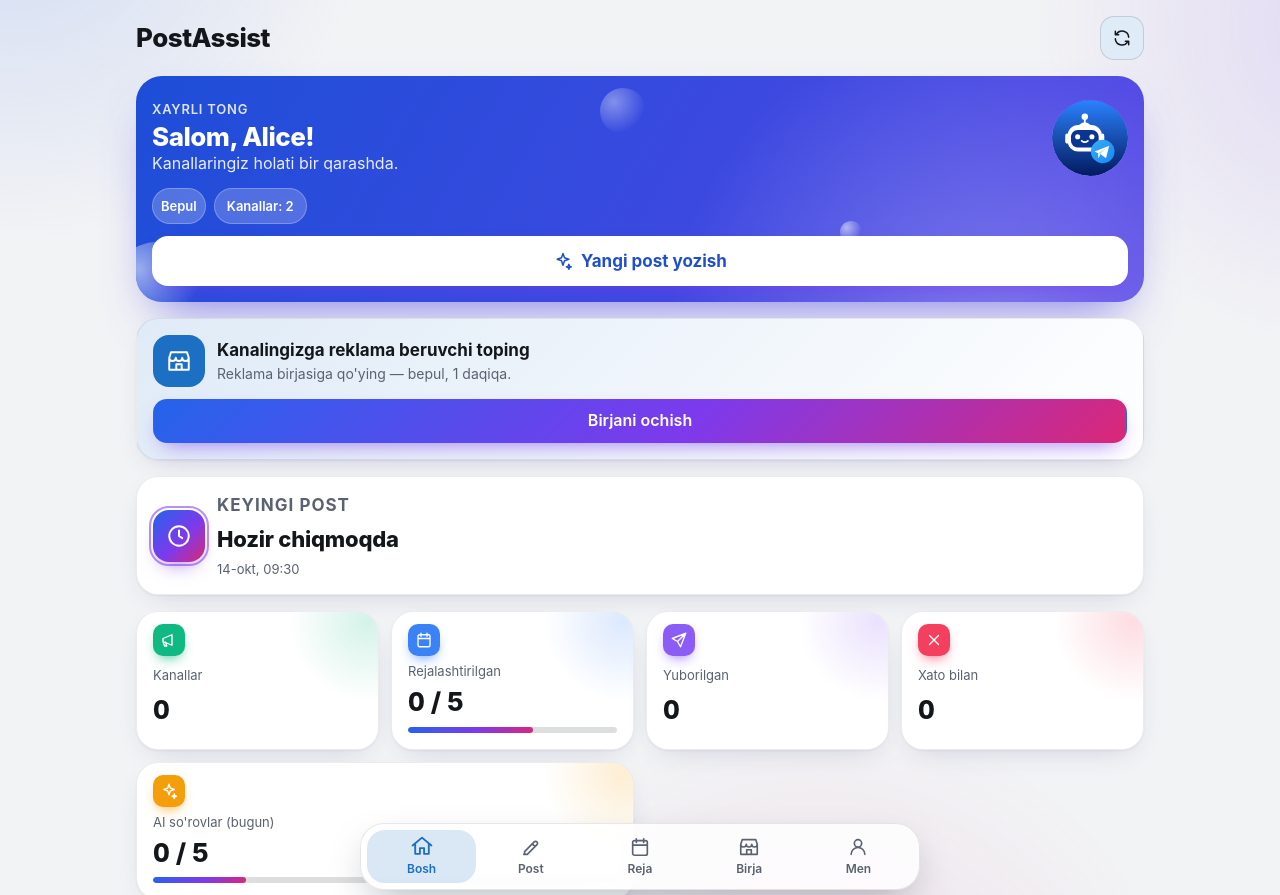
Test case: Kanal tahlili sahifasi › «Tahlil» pastki tabda YO'Q (tablar bir qatorda qoladi) va kanal yo'q bo'lsa tugma ham yo'q
Expected: the heading "Salom, Alice!" is shown, [152,121,314,152]
What coordinates should you click on to do the following:
click the button "Men"
I would click on:
 (858, 856)
Its box is [804,830,913,883].
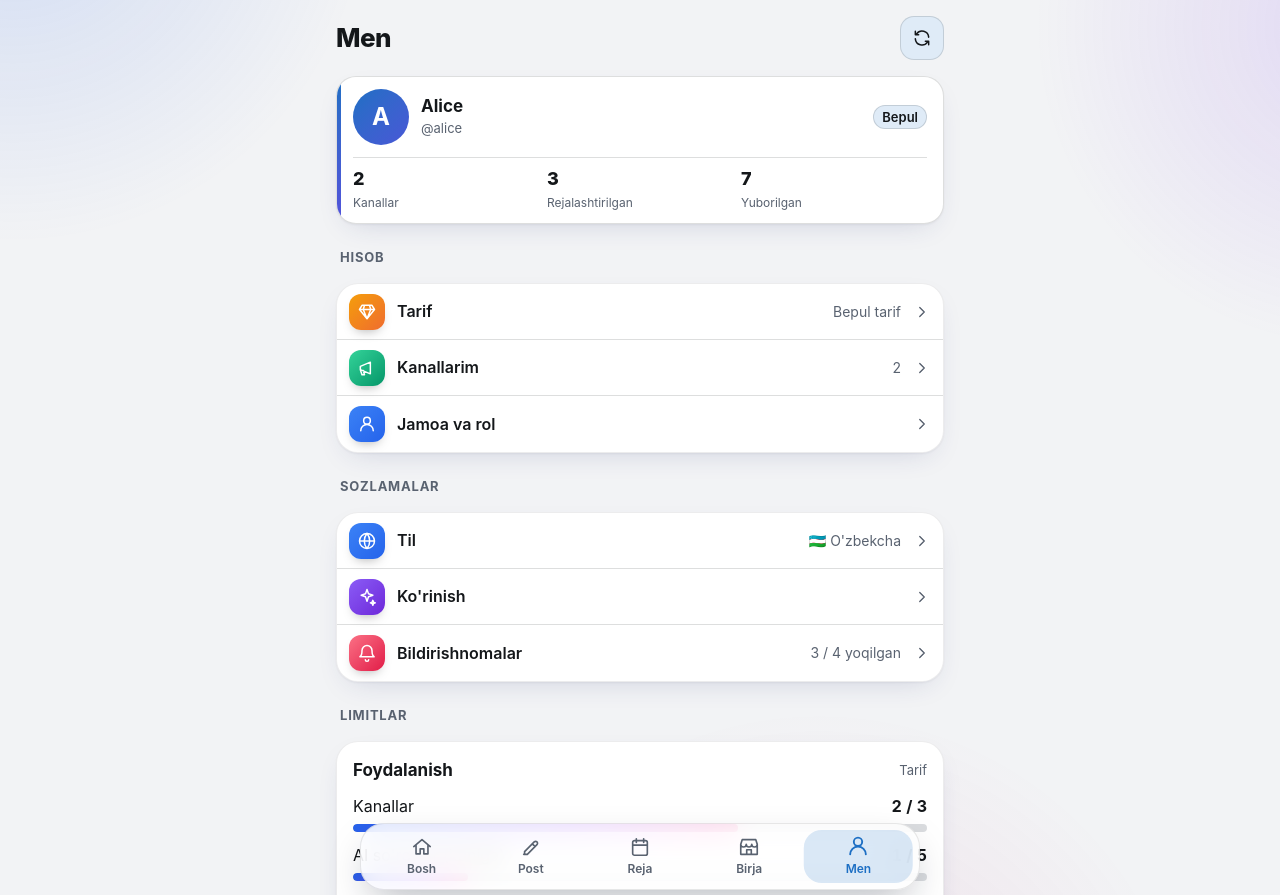
What coordinates should you click on to do the following:
click the button "Kanallarim 2"
I would click on:
 (367, 368)
Its box is [337,340,943,396].
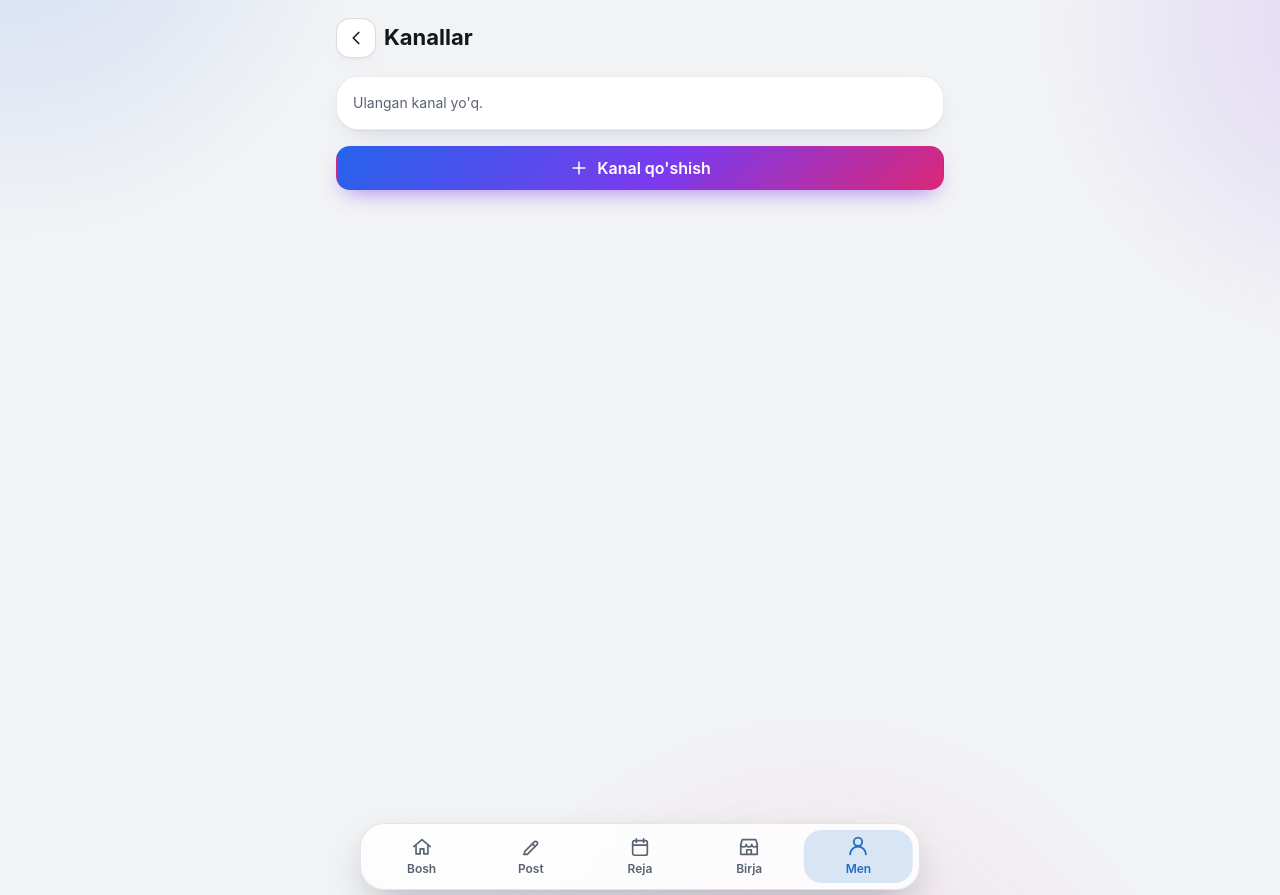
Expected: the text "Ulangan kanal yo'q." is shown, [353,94,483,111]
